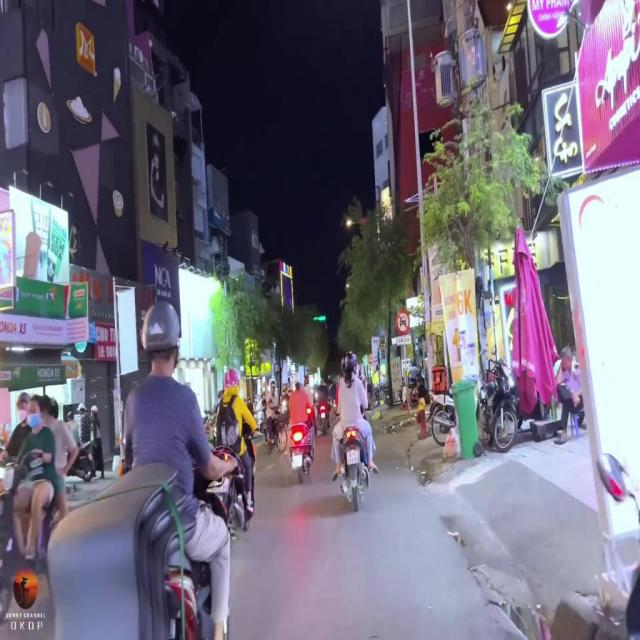cam_o_to: (396, 309, 410, 335)
khac: (397, 336, 411, 346)
